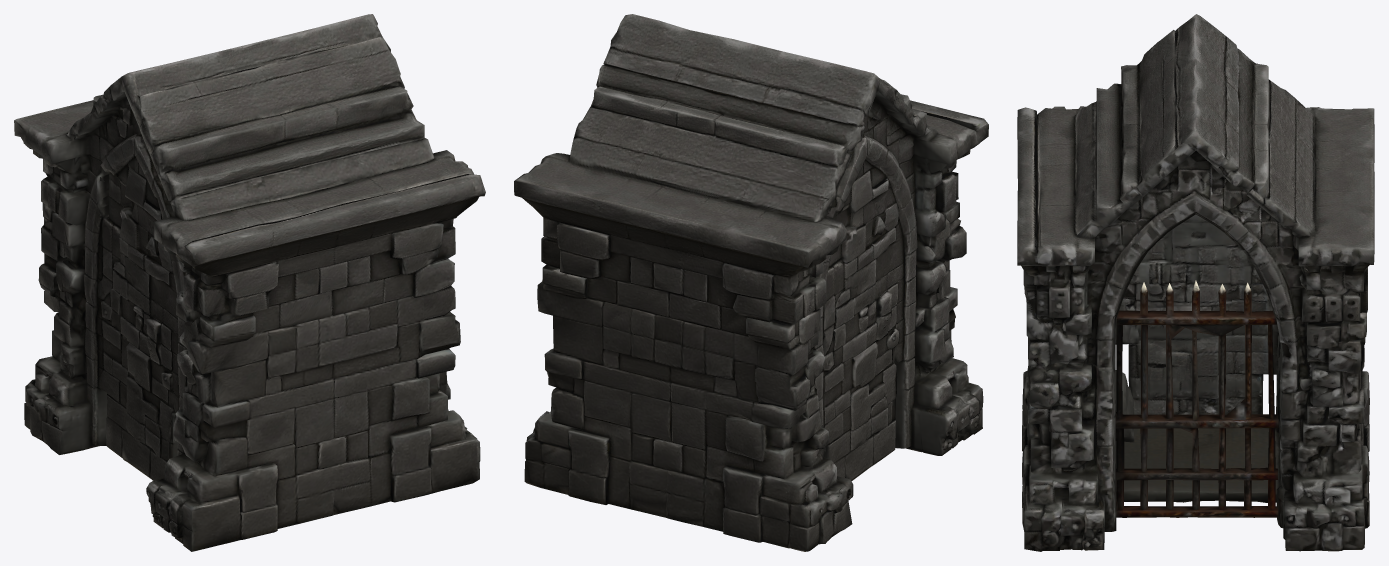
The model's file is prison_cell.glb.
3 views of the same model, side by side, from view 1: azimuth 30°, elevation 25°; view 2: azimuth 150°, elevation 25°; view 3: azimuth 270°, elevation 25° (orthographic).
Parts seen in each view (by area): view 1: tripo_node_3b0b2d0d-b76d-4818-8337-48bc405d5175; view 2: tripo_node_3b0b2d0d-b76d-4818-8337-48bc405d5175; view 3: tripo_node_3b0b2d0d-b76d-4818-8337-48bc405d5175.
Part boxes in pixels (box(x1,y1,x2,y2)): tripo_node_3b0b2d0d-b76d-4818-8337-48bc405d5175: box(14, 14, 485, 551); tripo_node_3b0b2d0d-b76d-4818-8337-48bc405d5175: box(514, 14, 988, 551); tripo_node_3b0b2d0d-b76d-4818-8337-48bc405d5175: box(1017, 14, 1374, 551).
Size of the model in its own units: 0.7686 by 1 by 0.791.
1 material, 1 textured.
